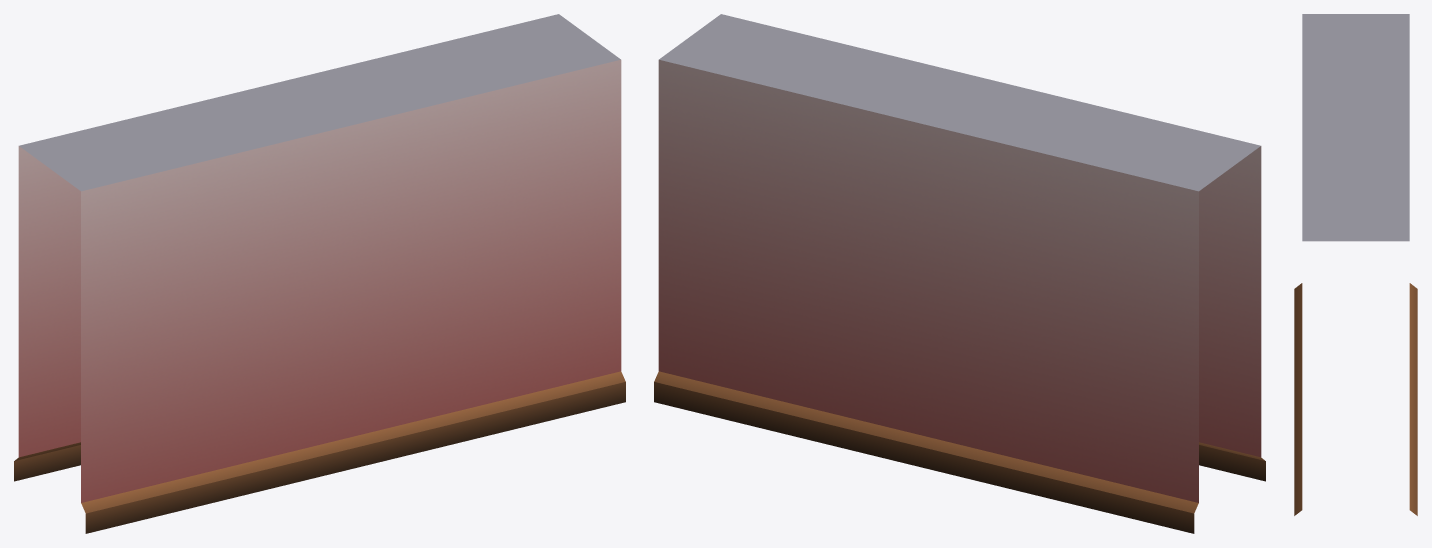
File: wall_salmone.fbx
3 renders of one model, left to right at view 1: azimuth 30°, elevation 25°; view 2: azimuth 150°, elevation 25°; view 3: azimuth 270°, elevation 25°, orthographic. The views are drawn at different scales.
Visible parts, largest first — view 1: SM_wall_light_salmone; view 2: SM_wall_light_salmone; view 3: SM_wall_light_salmone.
Boxes of the visible parts, bbox=[...] form: SM_wall_light_salmone: bbox=[14, 14, 625, 533]; SM_wall_light_salmone: bbox=[654, 14, 1265, 533]; SM_wall_light_salmone: bbox=[1294, 14, 1417, 515].
Bounding box in the file's own units: 500 × 300 × 115.
